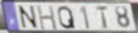1: (79, 6, 91, 30)
8: (115, 5, 131, 30)
H: (36, 5, 59, 31)
N: (17, 5, 41, 31)
Q: (57, 5, 77, 30)
T: (95, 5, 110, 30)
